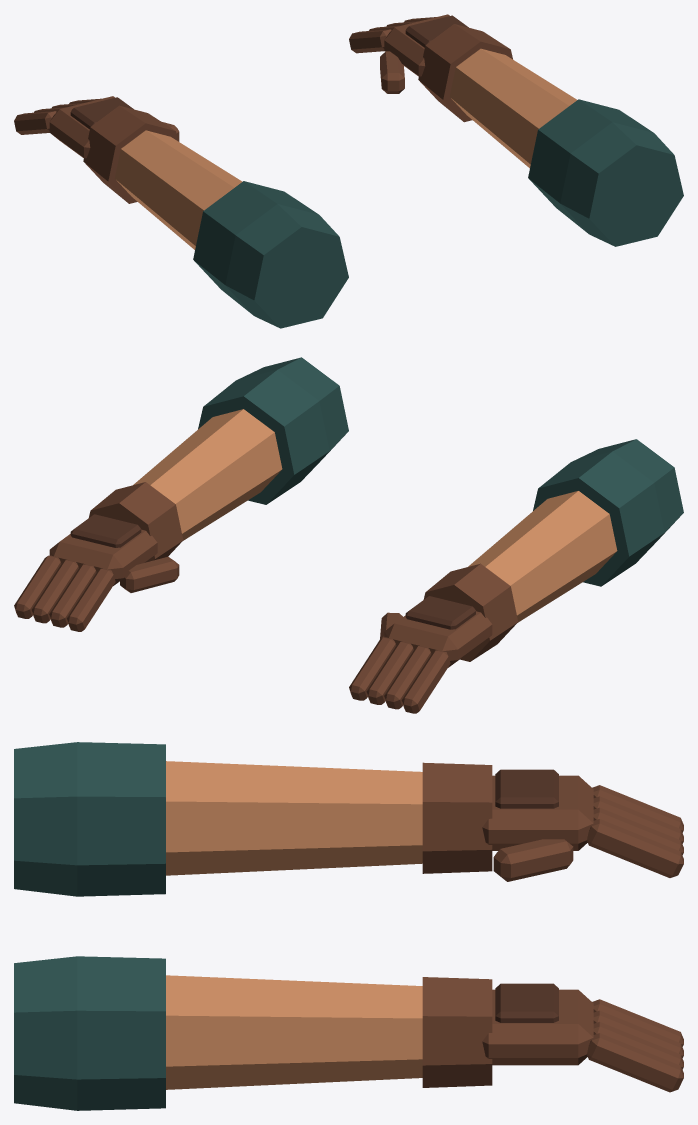
Rendered from FP_Arms_Human.fbx.
3 renders of one model, top to bottom at view 1: azimuth 30°, elevation 25°; view 2: azimuth 150°, elevation 25°; view 3: azimuth 270°, elevation 25°, orthographic. The views are drawn at different scales.
Parts seen in each view (by area): view 1: Arm.R, Arm.L, Hand.R, Hand.L; view 2: Arm.L, Arm.R, Hand.R, Hand.L; view 3: Arm.L, Arm.R, Hand.L, Hand.R.
Part boxes in pixels (x1,y1,x2,y2): Arm.R: (449, 48, 683, 246); Arm.L: (115, 130, 348, 328); Hand.R: (349, 14, 512, 122); Hand.L: (14, 96, 179, 203); Arm.L: (468, 439, 683, 622); Arm.R: (133, 357, 348, 540); Hand.R: (14, 482, 183, 631); Hand.L: (349, 563, 518, 713); Arm.L: (14, 742, 422, 896); Arm.R: (14, 956, 422, 1110); Hand.L: (422, 762, 683, 881); Hand.R: (422, 977, 683, 1092).
Bounding box in the file's own units: 0.5248 × 0.5288 × 0.1217.
